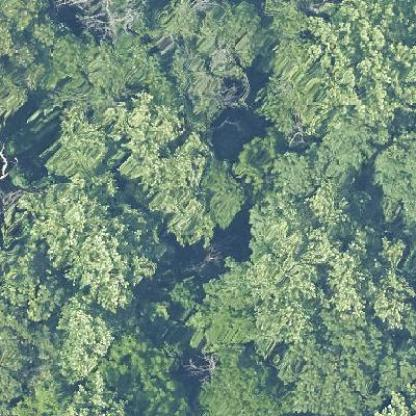tree-top: (249, 197, 415, 337), (38, 162, 158, 306), (309, 2, 415, 124), (34, 102, 124, 189), (45, 292, 115, 387), (202, 343, 290, 415), (103, 320, 177, 392), (368, 132, 415, 227)
